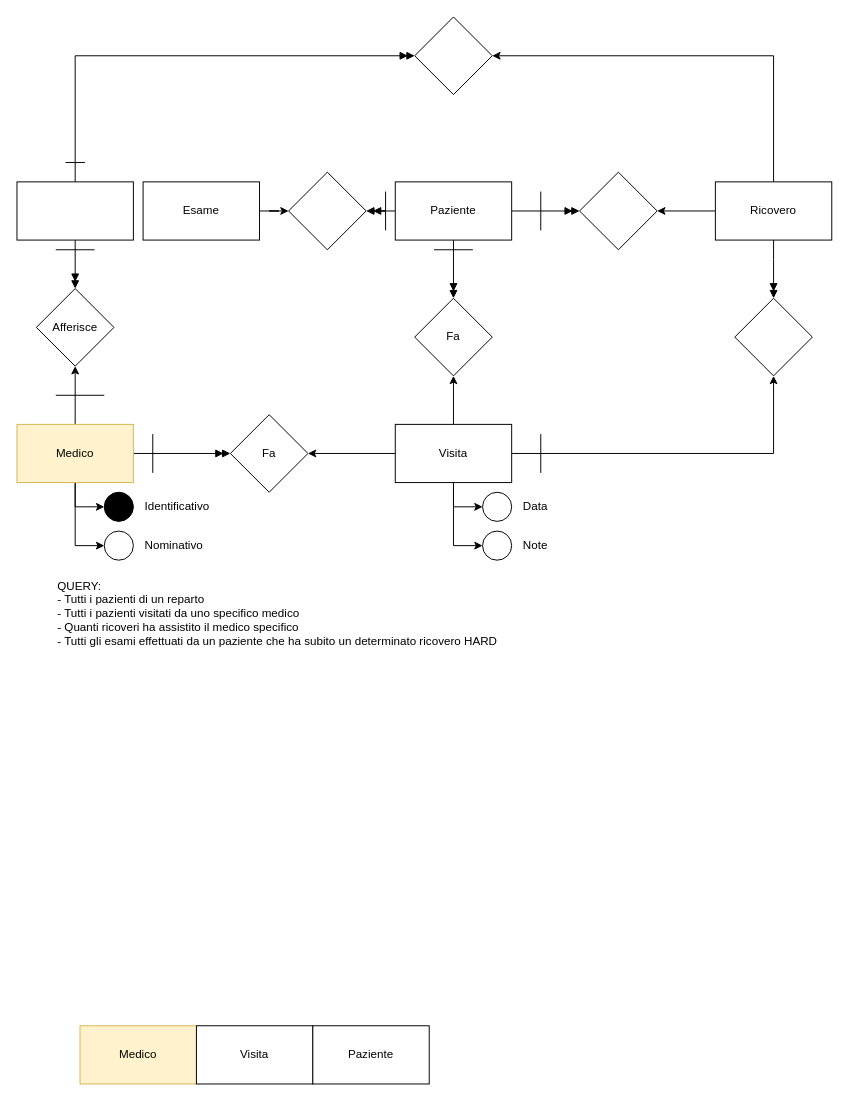
This 849x1101 diagram has some shape labels left out. Each missing label, with the box of its shape:
Effettuato: (288, 171, 366, 250)
Effettuato in: (414, 16, 492, 95)
Ha: (579, 171, 657, 250)
Reparto: (16, 181, 133, 240)
Svolta: (734, 297, 812, 376)
